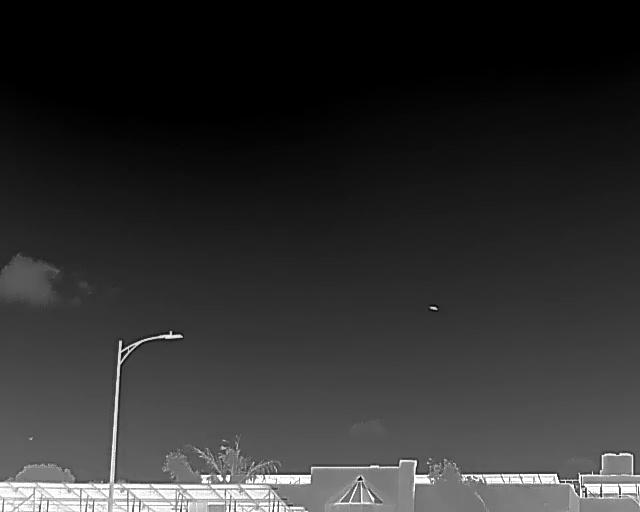fpv-drone: (429, 304, 438, 311)
